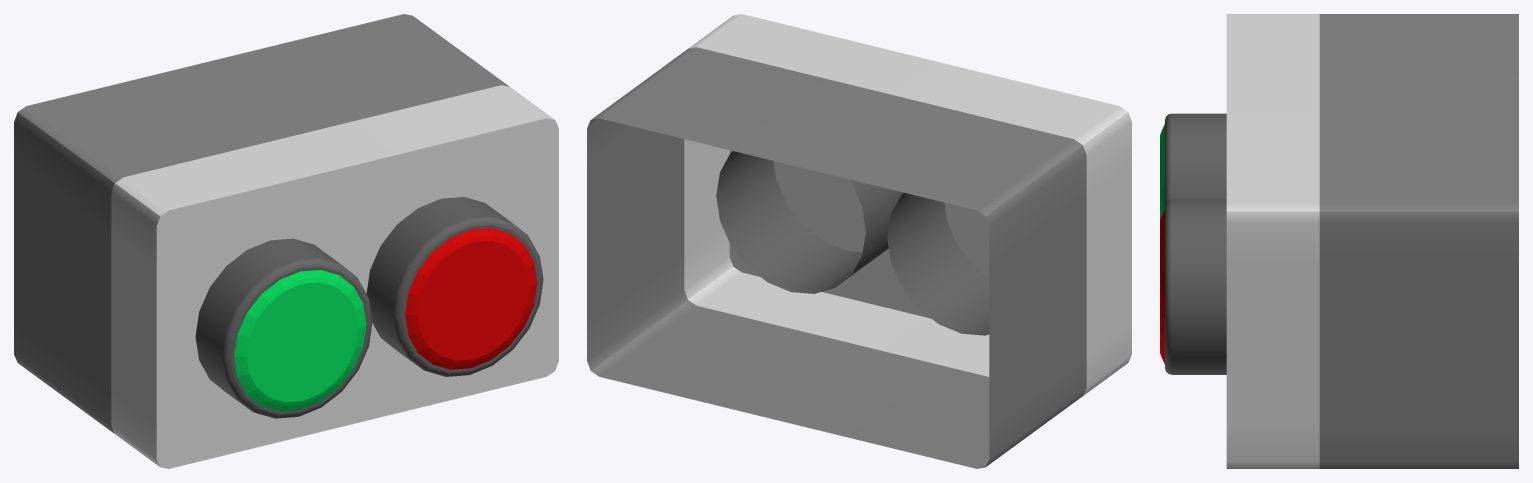
Rendered from on off board1.fbx.
3 views of the same model, side by side, from view 1: azimuth 30°, elevation 25°; view 2: azimuth 150°, elevation 25°; view 3: azimuth 270°, elevation 25° (orthographic). The views are drawn at different scales.
Visible parts, largest first — view 1: pCube36; view 2: pCube36; view 3: pCube36.
Part boxes in pixels (bbox=[...]): pCube36: bbox=[14, 14, 558, 468]; pCube36: bbox=[587, 14, 1131, 468]; pCube36: bbox=[1160, 14, 1518, 468].
Bounding box in the file's own units: 14.16 × 8.69 × 10.67.
